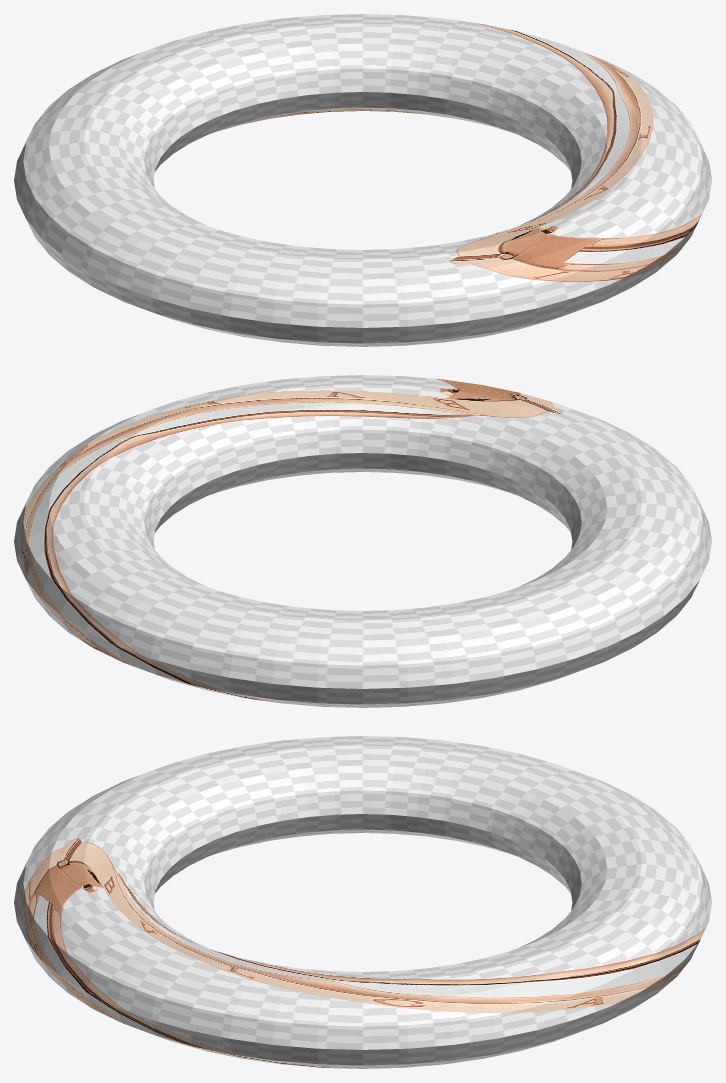
File: braceletRoseGold.glb
3 views of the same model, one above another, from view 1: azimuth 30°, elevation 25°; view 2: azimuth 150°, elevation 25°; view 3: azimuth 270°, elevation 25° (orthographic).
Parts seen in each view (by area): view 1: Torus; view 2: Torus; view 3: Torus.
Boxes of the visible parts, x1,y1,x2,y2 form: Torus: (14,14,711,346); Torus: (14,375,711,707); Torus: (14,736,711,1068).
Size of the model in its own units: 6.5 by 0.8 by 6.5.
1 material, 1 textured.
